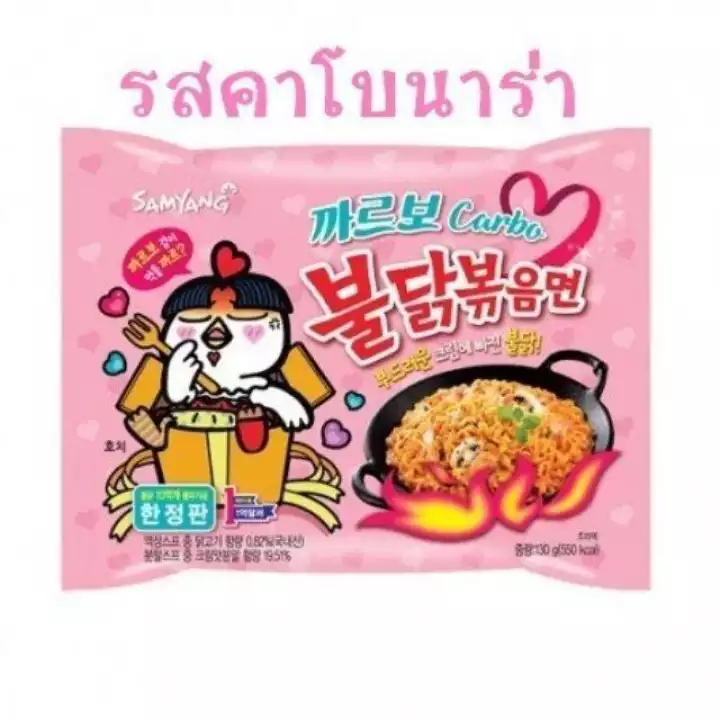Snack: (43, 123, 663, 602)
